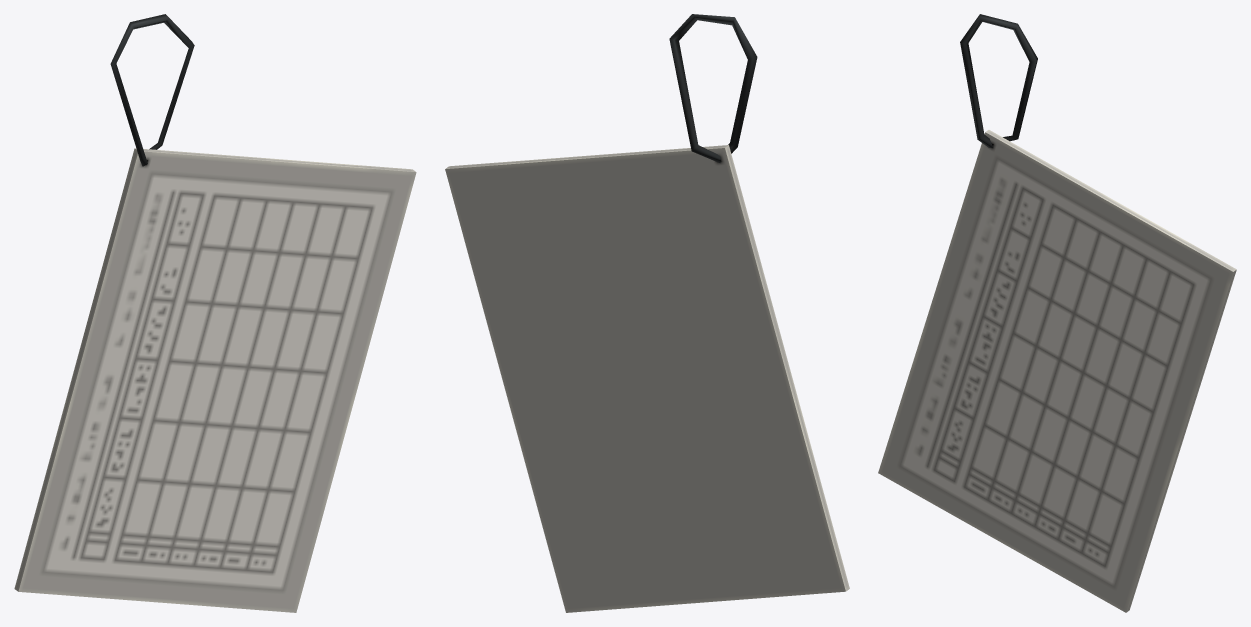
Rendered from Obj_book_01_01.fbx.
3 views of the same model, side by side, from view 1: azimuth 30°, elevation 25°; view 2: azimuth 150°, elevation 25°; view 3: azimuth 330°, elevation 25° (orthographic). The views are drawn at different scales.
Parts seen in each view (by area): view 1: obj_book_01_01; view 2: obj_book_01_01; view 3: obj_book_01_01.
Boxes of the visible parts, x1=… form: obj_book_01_01: x1=14, y1=14, x2=416, y2=612; obj_book_01_01: x1=445, y1=14, x2=849, y2=612; obj_book_01_01: x1=878, y1=14, x2=1236, y2=612.
Bounding box in the file's own units: 28.77 × 43.49 × 1.77.
